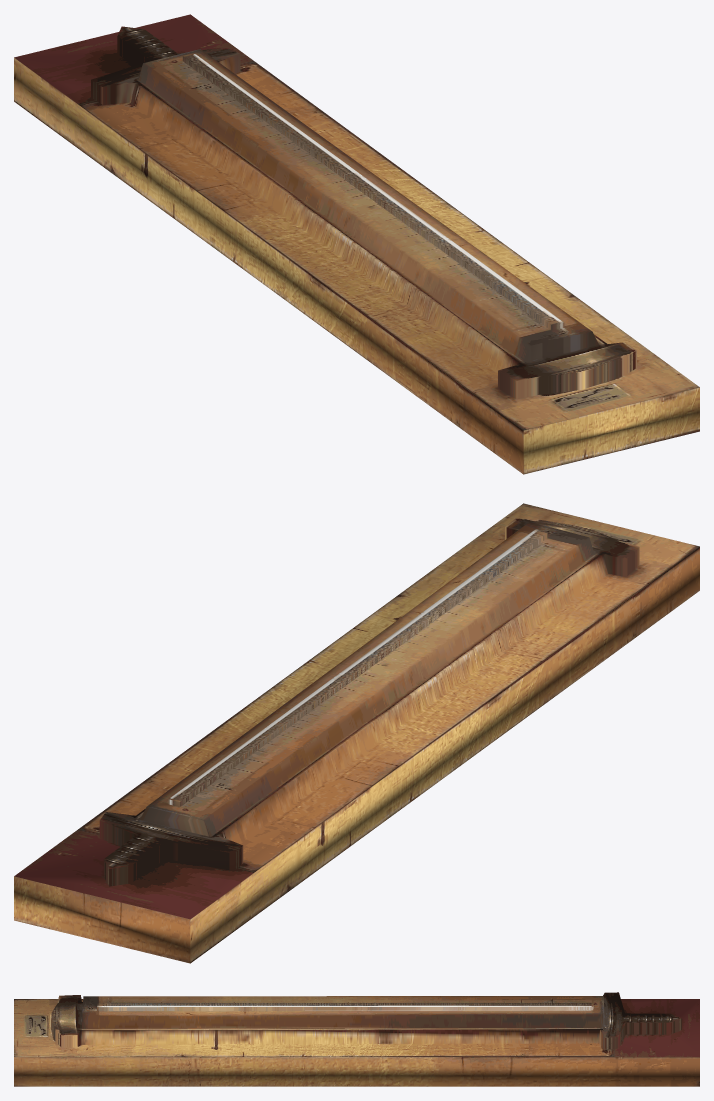
File: SM_Altimeter.fbx
3 views of the same model, one above another, from view 1: azimuth 30°, elevation 25°; view 2: azimuth 150°, elevation 25°; view 3: azimuth 270°, elevation 25° (orthographic). The views are drawn at different scales.
Visible parts, largest first — view 1: Cube; view 2: Cube; view 3: Cube.
Boxes of the visible parts, x1,y1,x2,y2 form: Cube: (14,14,699,474); Cube: (14,503,699,963); Cube: (14,992,699,1086).
Size of the model in its own units: 10 by 50 by 4.43.
Materials: 1 (1 with a texture image).
